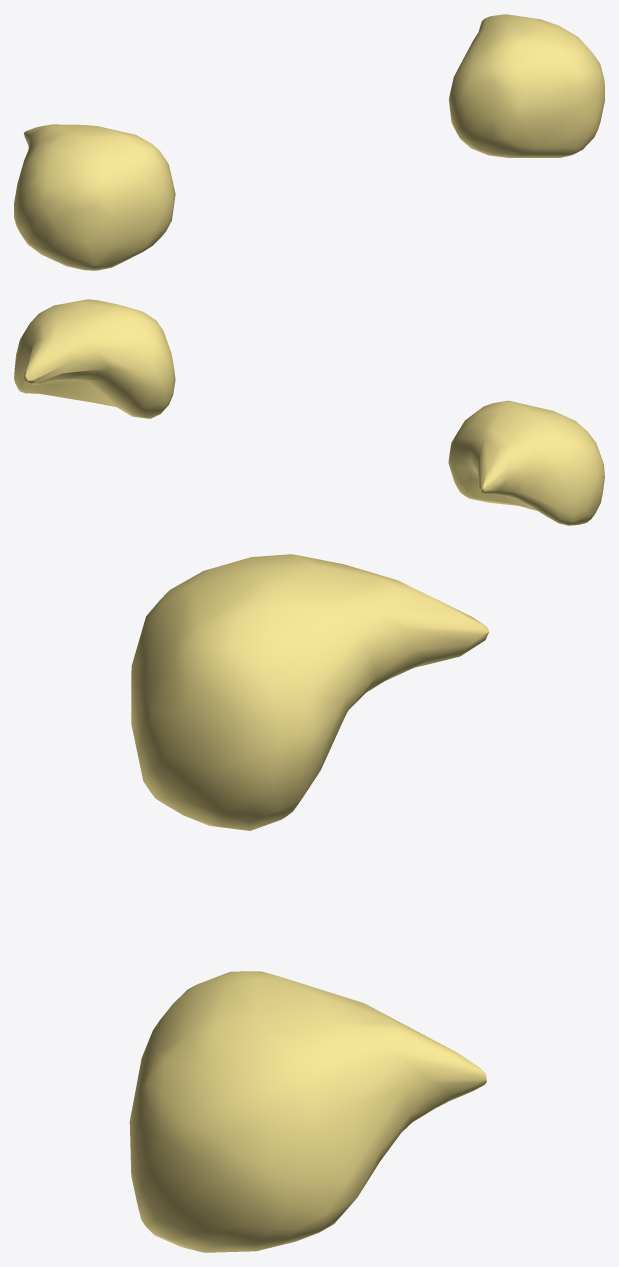
The model's file is amigdala.glb.
The picture shows the model from 3 angles, top to bottom: view 1: azimuth 30°, elevation 25°; view 2: azimuth 150°, elevation 25°; view 3: azimuth 270°, elevation 25°; orthographic projection. The views are drawn at different scales.
Parts seen in each view (by area): view 1: amigdala; view 2: amigdala; view 3: amigdala.
Boxes of the visible parts, box(x1,y1,x2,y2) form: amigdala: box(14, 14, 604, 270); amigdala: box(14, 299, 604, 525); amigdala: box(129, 554, 488, 1252).
Bounding box in the file's own units: 0.068 × 0.0129 × 0.0185.
